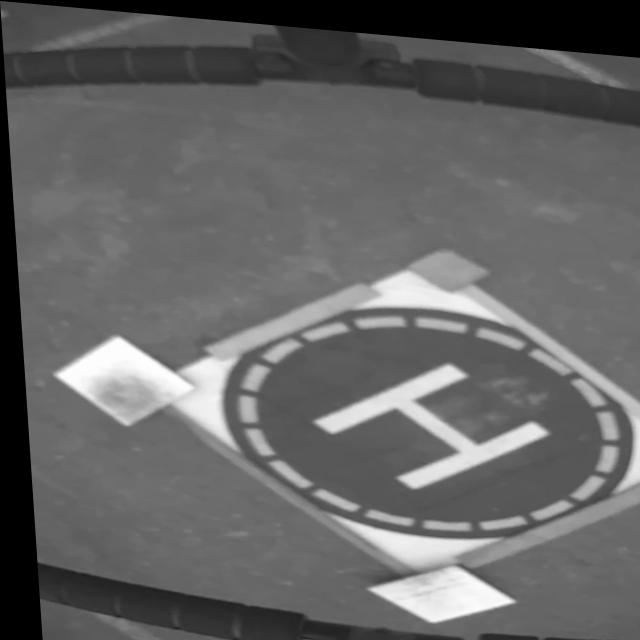Helipad: (309, 352, 546, 482)
